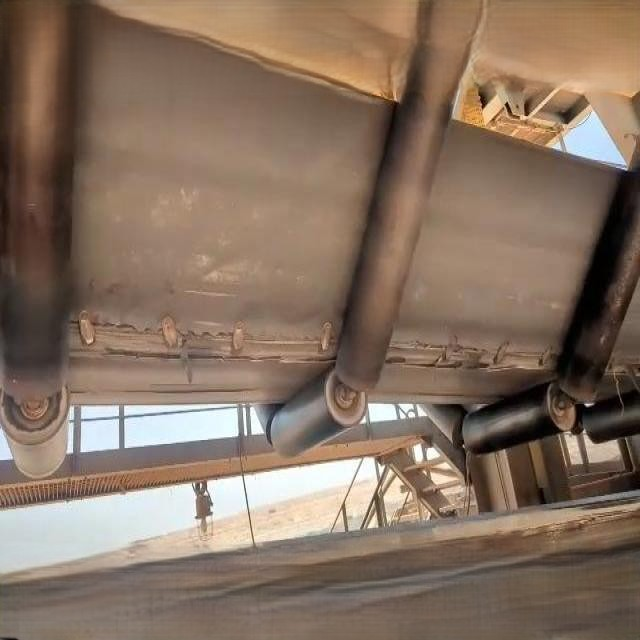Tear: (56, 304, 346, 368), (383, 328, 561, 379)
